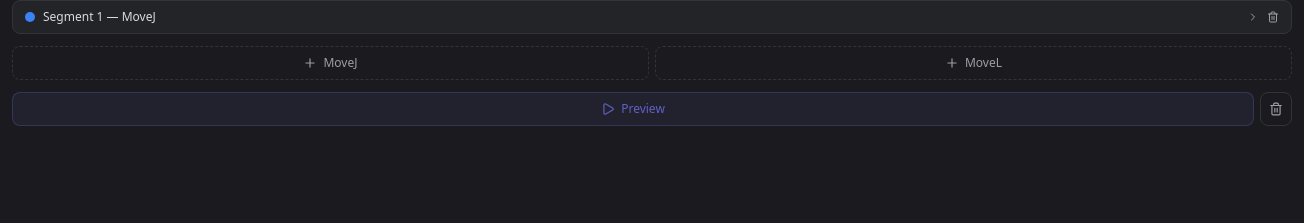
it: PlanningPanel — Recompile CTA on manifest validation error (PR1) › shows a Recompile button when the preview fails with semantic_validation_error
Click the button "Preview" at (633, 109), box x1=12 y1=92 x2=1254 y2=126
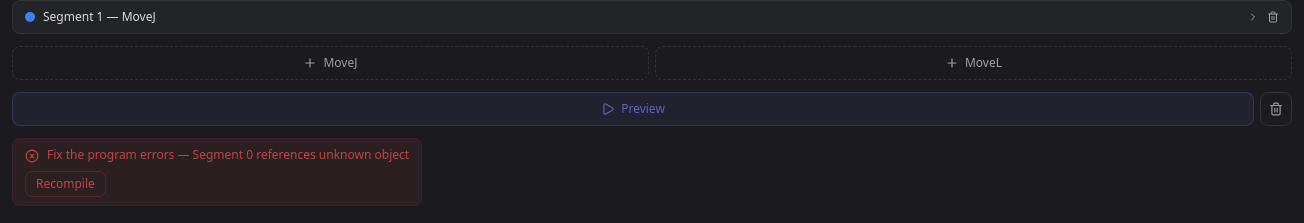
Now the button "Recompile" is shown, box x1=25 y1=171 x2=106 y2=197
